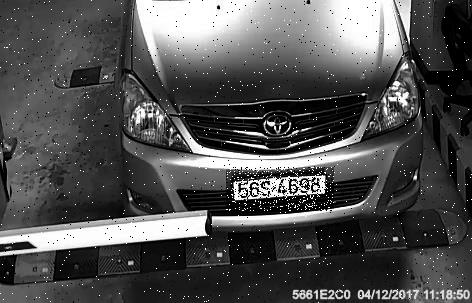License-plate: (227, 168, 335, 212)
